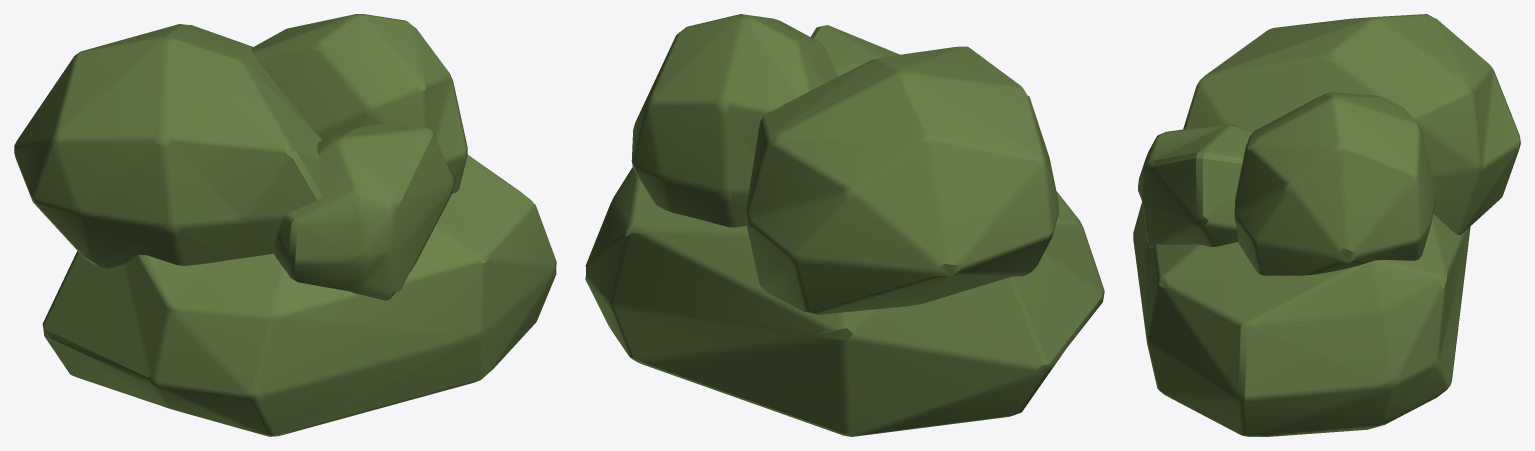
The model's file is Bush.fbx.
3 views of the same model, side by side, from view 1: azimuth 30°, elevation 25°; view 2: azimuth 150°, elevation 25°; view 3: azimuth 270°, elevation 25° (orthographic). The views are drawn at different scales.
Visible parts, largest first — view 1: pasted__polySurface354; view 2: pasted__polySurface354; view 3: pasted__polySurface354.
Boxes of the visible parts, <box> form: pasted__polySurface354: <box>14,14,556,436</box>; pasted__polySurface354: <box>585,14,1104,436</box>; pasted__polySurface354: <box>1133,14,1520,436</box>.
Bounding box in the file's own units: 4.84 × 3.29 × 3.83.
